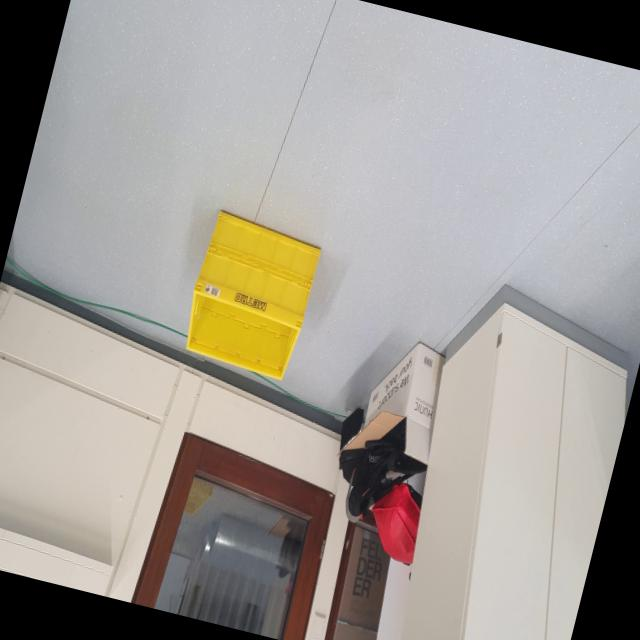box: (169, 196, 332, 394)
